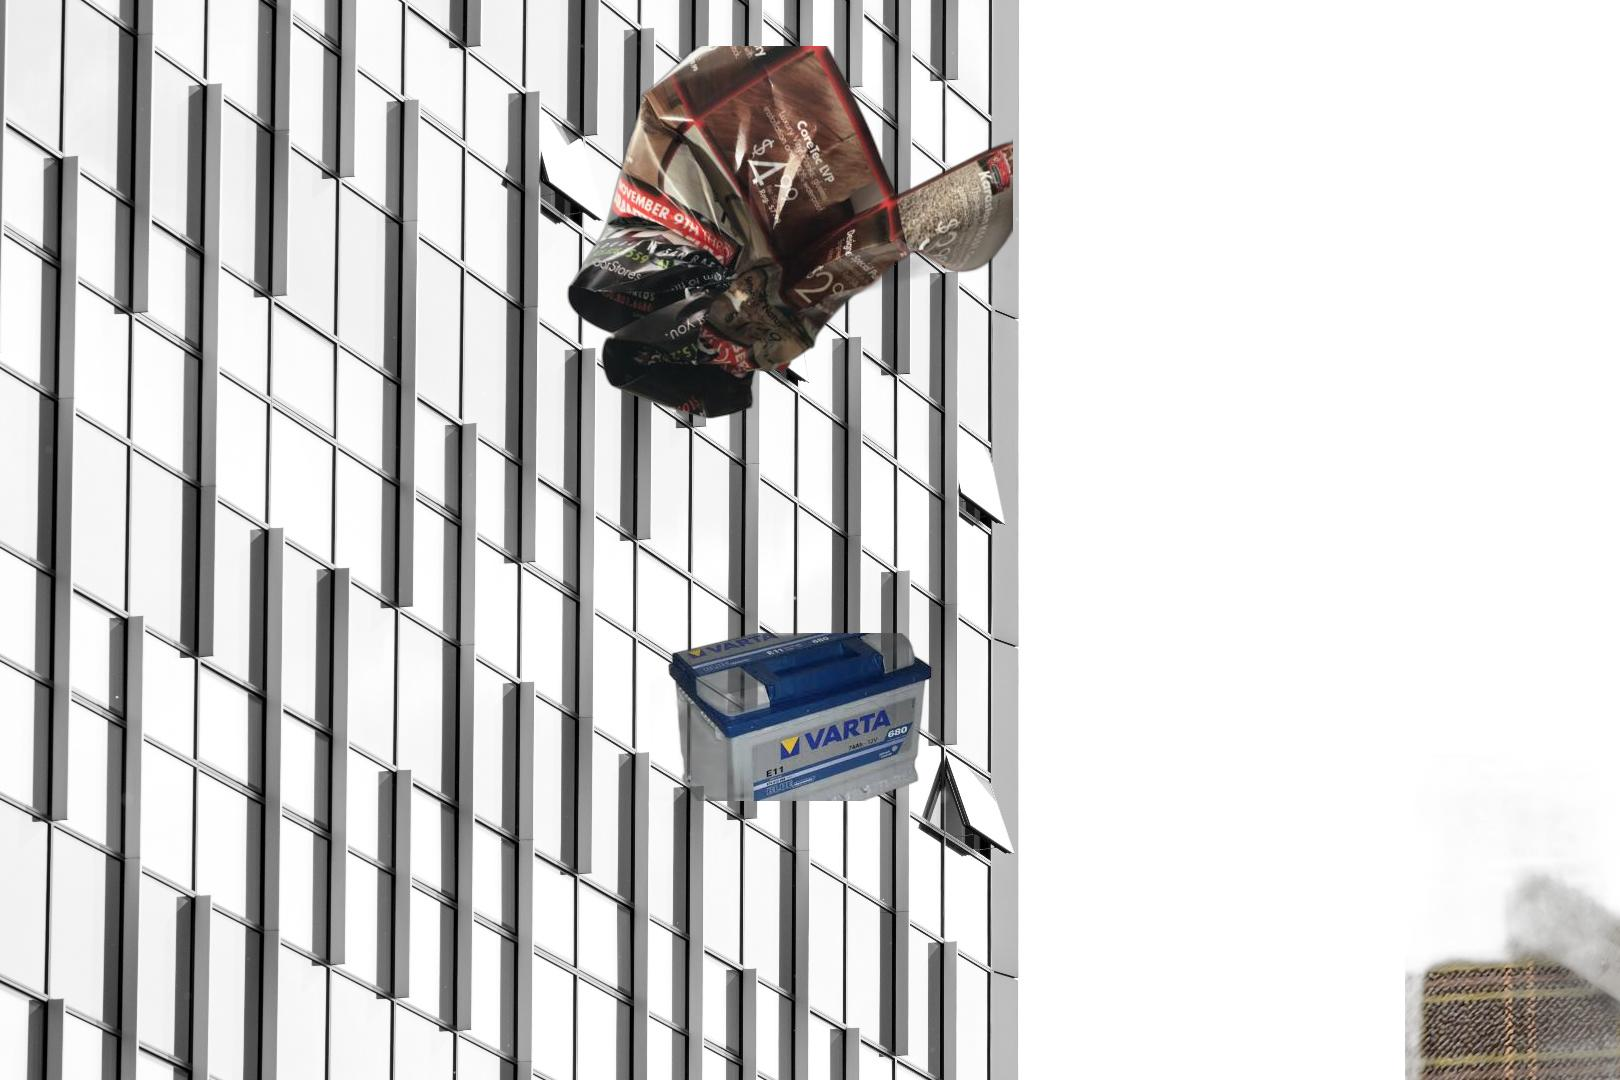battery: (645, 633, 945, 802)
paper: (563, 46, 1012, 422)
plastic-bottles: (1405, 755, 1620, 1080)
